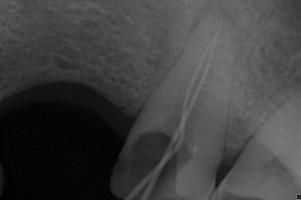Furcation Involvement: (187, 0, 245, 59)
